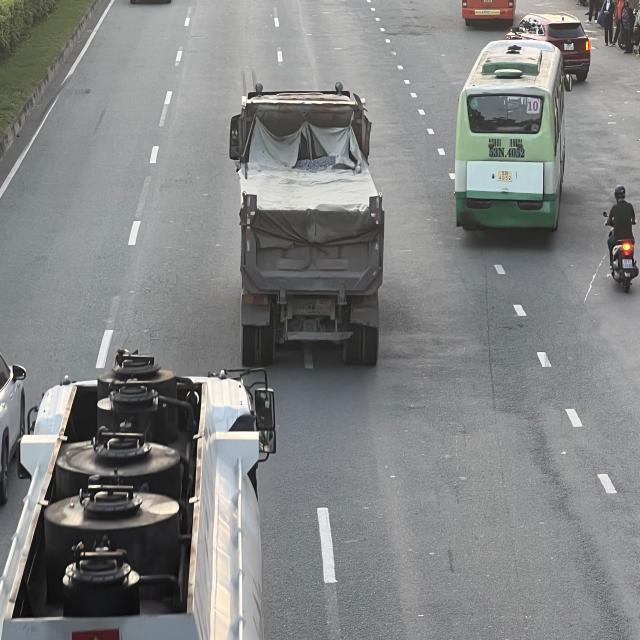car: (523, 17, 590, 76)
coach: (452, 39, 574, 232)
container: (2, 356, 276, 636), (228, 84, 382, 363)
